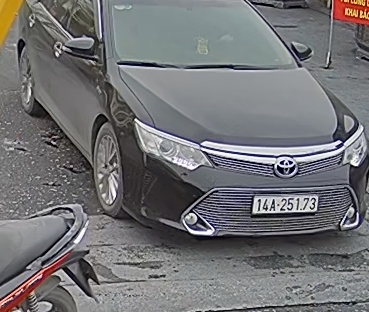vehicle plate: (248, 192, 320, 214)
